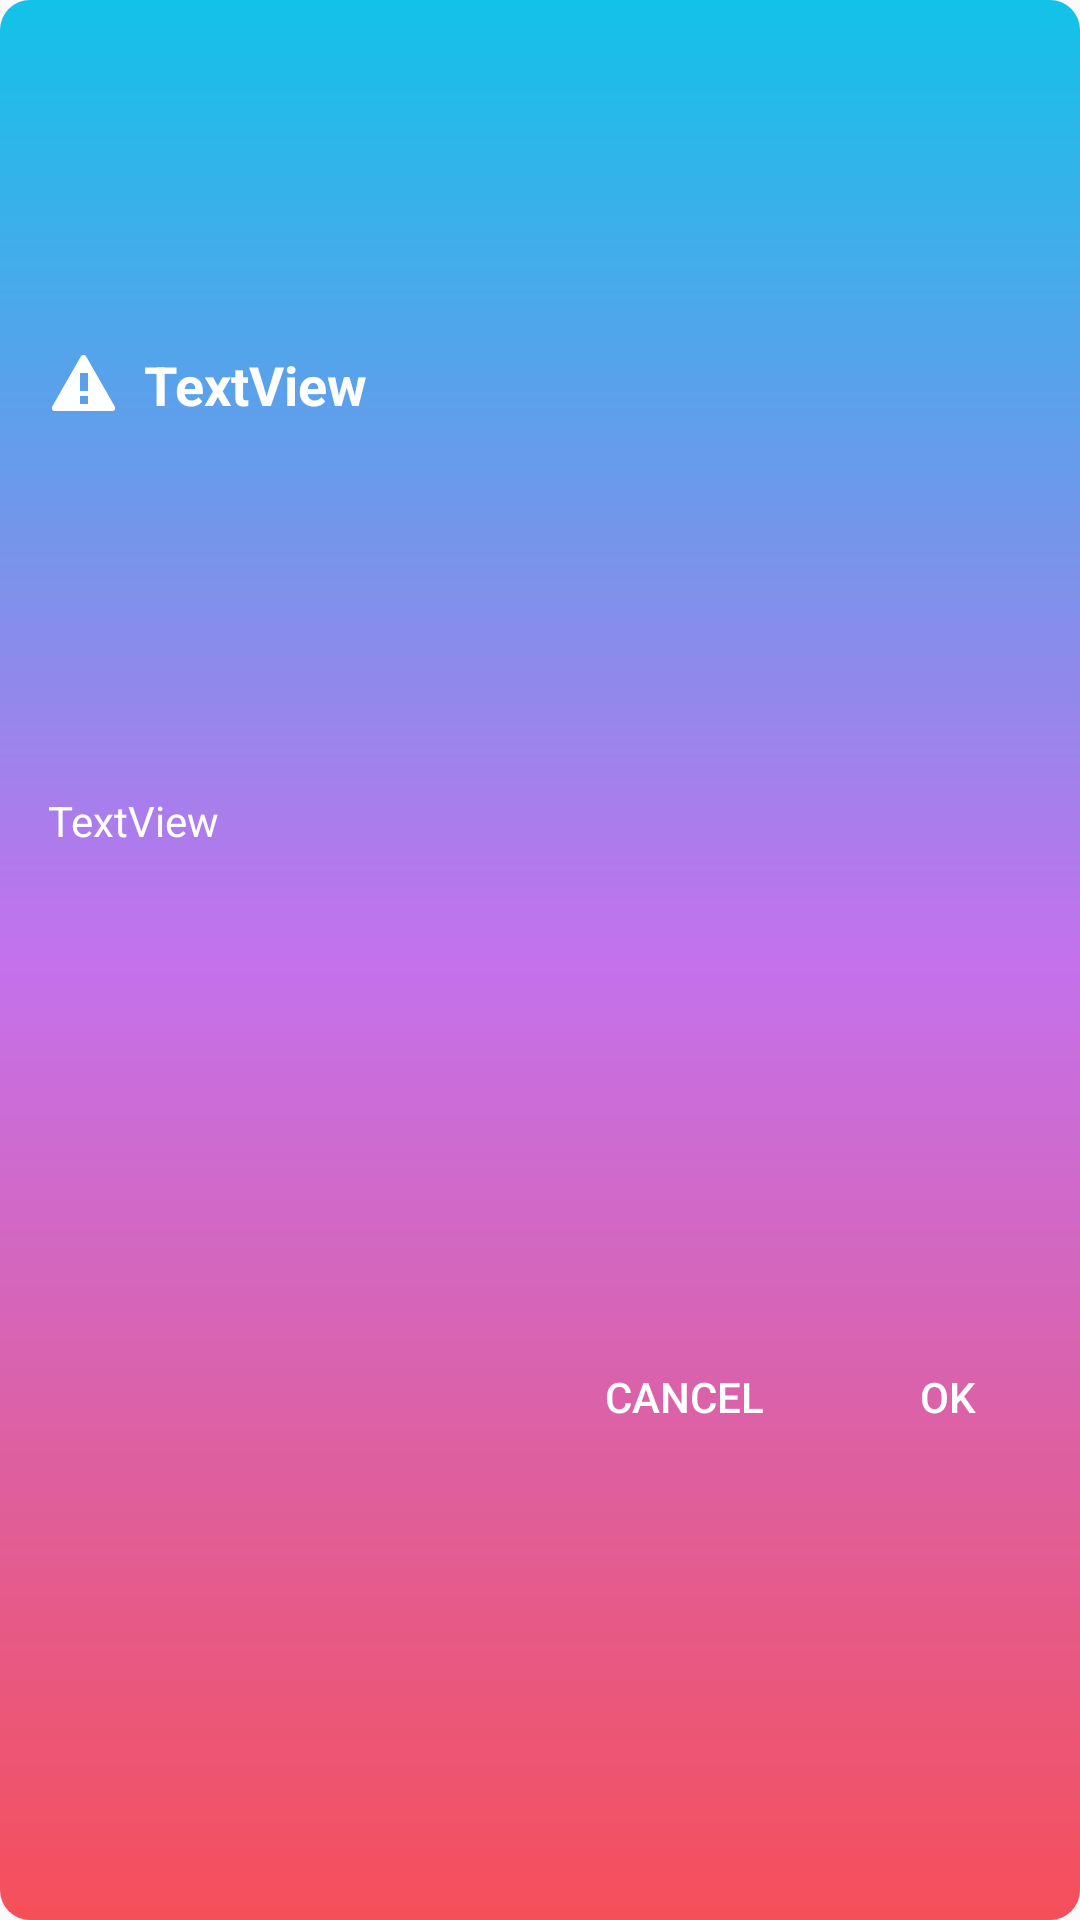

Locate icon controls on the screen. Image size 1080 × 1920, boxes as bbox=[x1, y1, x2, y2].
warning: bbox=[52, 355, 115, 411]
